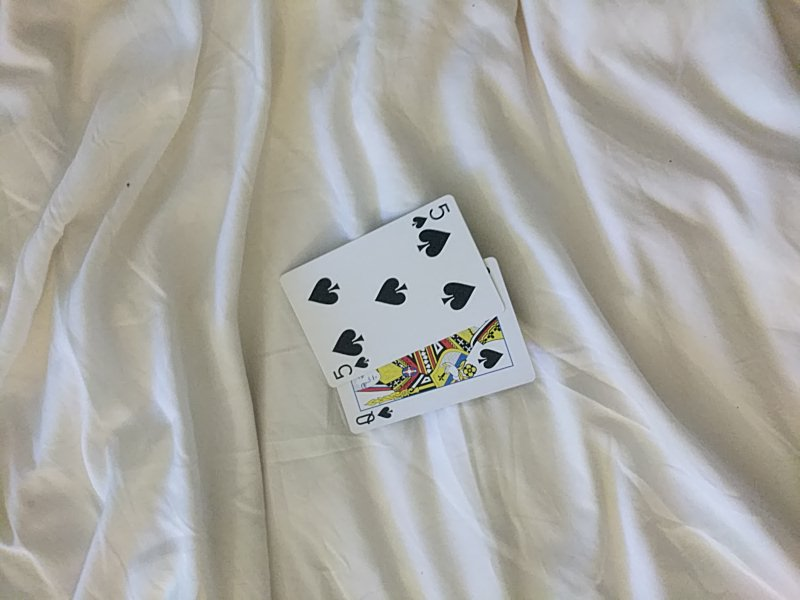Spades: (279, 197, 509, 384), (336, 259, 534, 436)
